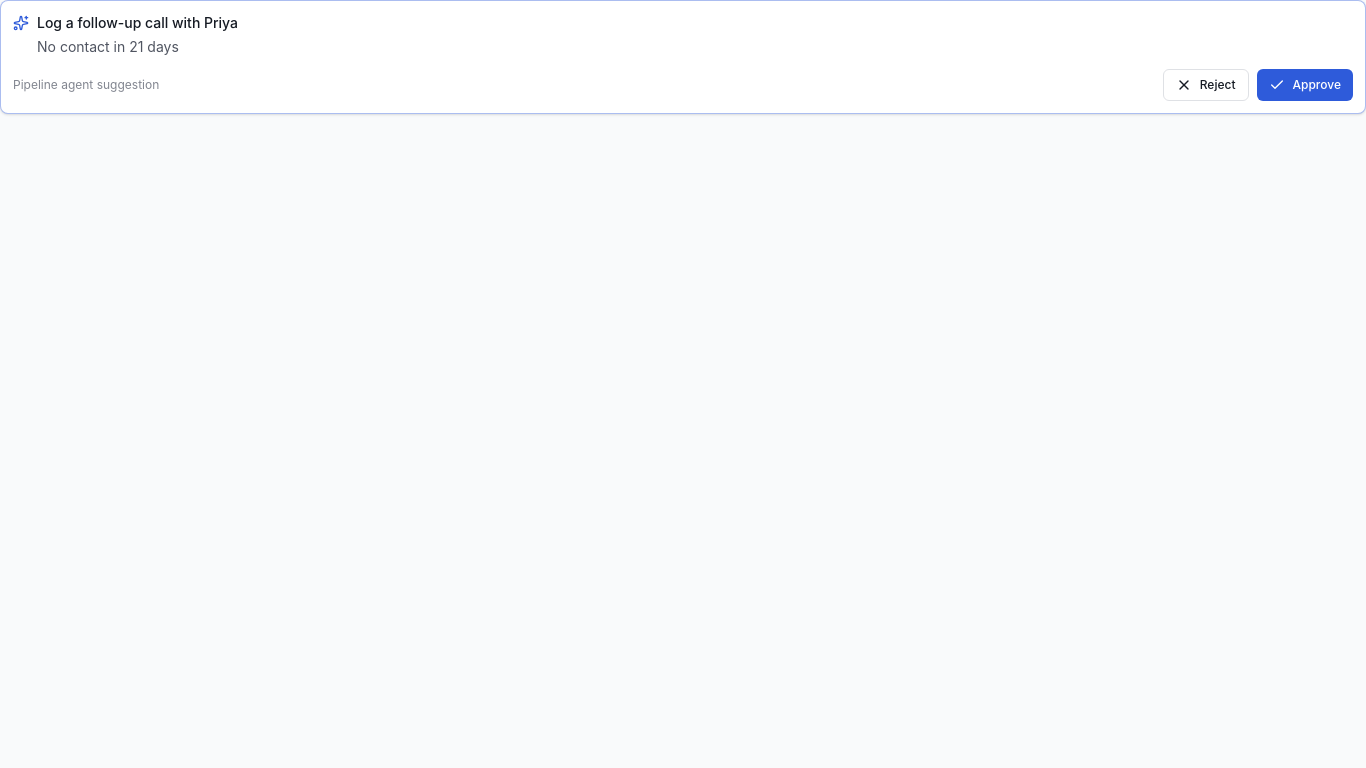
Test: ProposalCard › says why when the change couldn't be applied
Click the button "Approve" at (1305, 85), box [1256,69,1353,101]
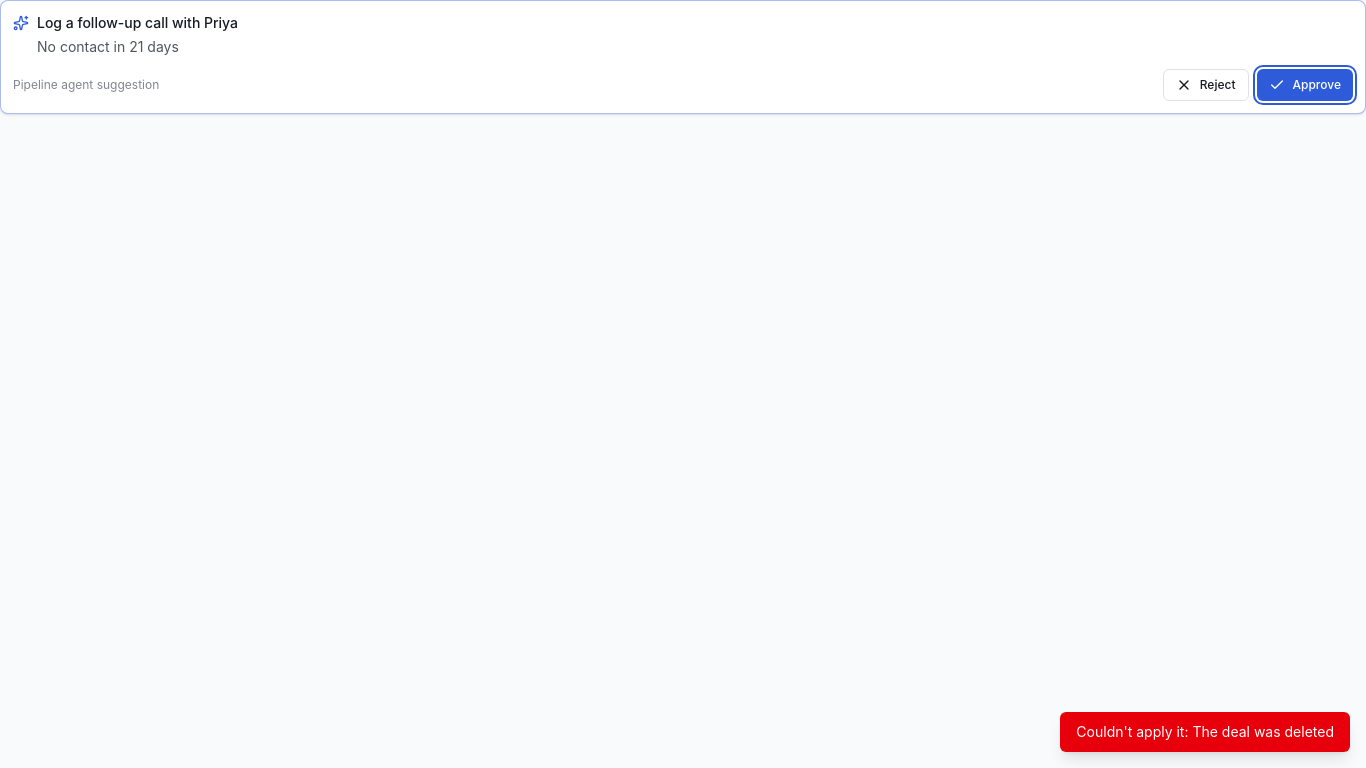
Expected: the message reads "Couldn't apply it: The deal was deleted", [1076,723,1334,740]
